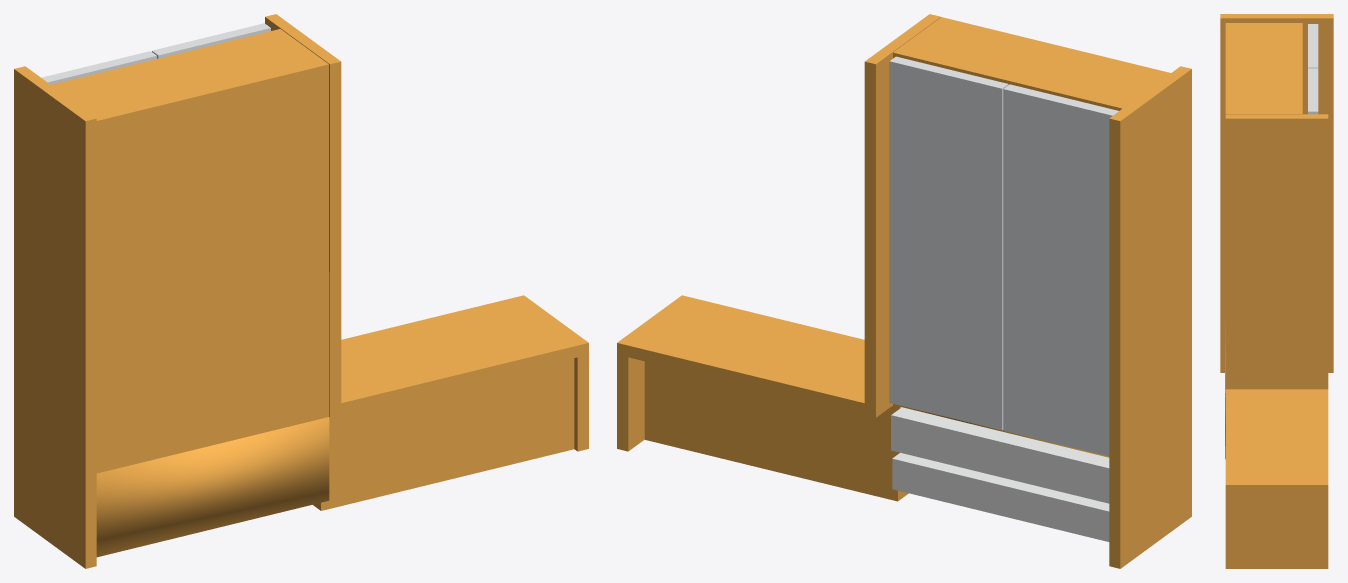
The model's file is Closet.fbx.
The picture shows the model from 3 angles, left to right: view 1: azimuth 30°, elevation 25°; view 2: azimuth 150°, elevation 25°; view 3: azimuth 270°, elevation 25°; orthographic projection. The views are drawn at different scales.
Visible parts, largest first — view 1: model:mesh845293311.005, model:mesh845293311.006, model:mesh845293311.007, model:mesh845293311.003, model:mesh845293311.004, model:mesh845293311.002, model:mesh845293311.008, model:mesh845293311.009; view 2: model:mesh845293311.008, model:mesh845293311.006, model:mesh845293311.009, model:mesh845293311.007, model:mesh845293311.003, model:mesh845293311.005, model:mesh845293311.010, model:mesh845293311.004, model:mesh845293311.001, model:mesh845293311.002; view 3: model:mesh845293311.004, model:mesh845293311.003, model:mesh845293311.002, model:mesh845293311.005, model:mesh845293311.006, model:mesh845293311.008, model:mesh845293311.009.
Part boxes in pixels (x1,y1,x2,y2): model:mesh845293311.005: [51, 29, 329, 557]; model:mesh845293311.006: [14, 66, 96, 568]; model:mesh845293311.007: [313, 358, 574, 510]; model:mesh845293311.003: [329, 295, 588, 417]; model:mesh845293311.004: [265, 14, 341, 405]; model:mesh845293311.002: [574, 354, 588, 451]; model:mesh845293311.008: [152, 23, 270, 58]; model:mesh845293311.009: [41, 51, 156, 84]; model:mesh845293311.008: [889, 56, 1008, 430]; model:mesh845293311.006: [1109, 66, 1191, 568]; model:mesh845293311.009: [1003, 84, 1118, 456]; model:mesh845293311.007: [644, 361, 908, 501]; model:mesh845293311.003: [617, 295, 892, 417]; model:mesh845293311.005: [893, 17, 1170, 457]; model:mesh845293311.010: [891, 407, 1109, 503]; model:mesh845293311.004: [864, 14, 940, 405]; model:mesh845293311.001: [892, 452, 1109, 541]; model:mesh845293311.002: [617, 354, 644, 451]; model:mesh845293311.004: [1225, 114, 1328, 389]; model:mesh845293311.003: [1225, 389, 1328, 494]; model:mesh845293311.002: [1225, 494, 1328, 568]; model:mesh845293311.005: [1225, 23, 1302, 459]; model:mesh845293311.006: [1220, 14, 1333, 372]; model:mesh845293311.008: [1308, 68, 1318, 114]; model:mesh845293311.009: [1308, 24, 1318, 68].
Bounding box in the file's own units: 1143 × 978 × 279.
